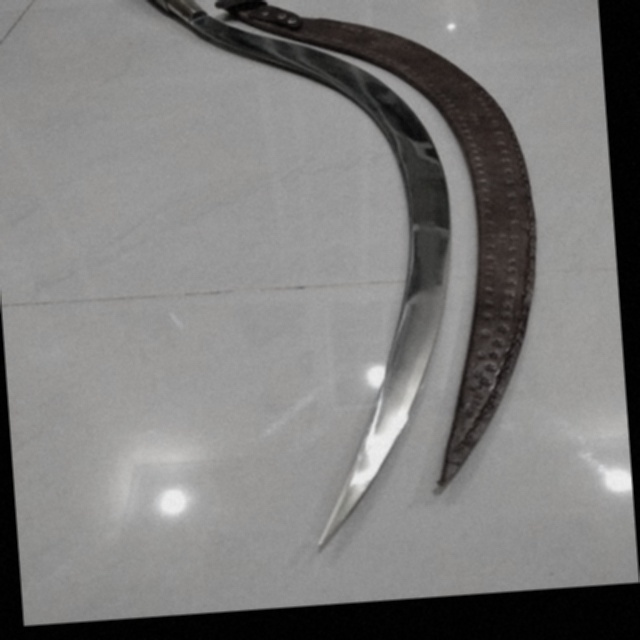Sharp-Object: (102, 0, 482, 572)
